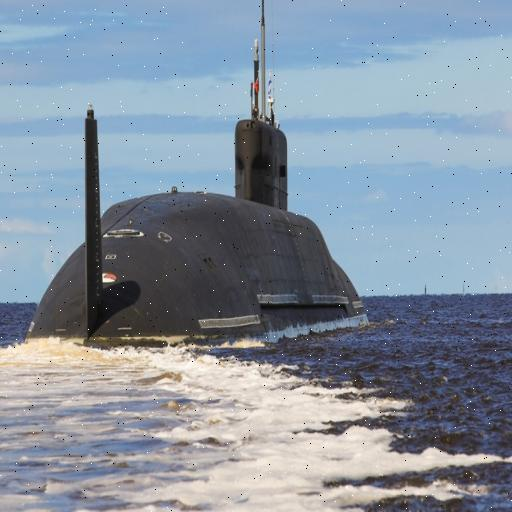submarine: (18, 1, 375, 358)
